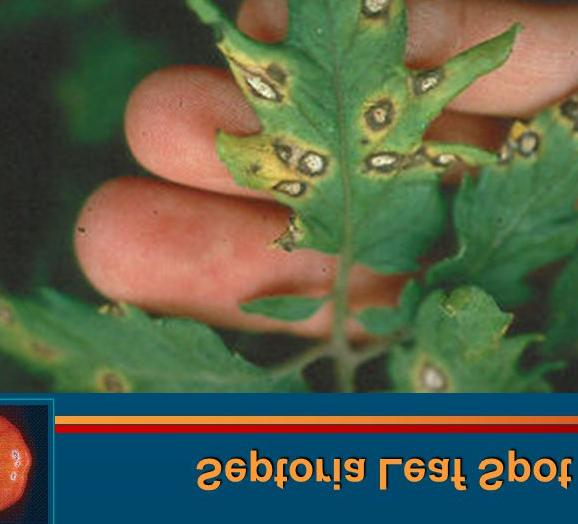Tomato Septoria leaf spot: (179, 0, 495, 263), (0, 270, 341, 389), (445, 20, 578, 314)
